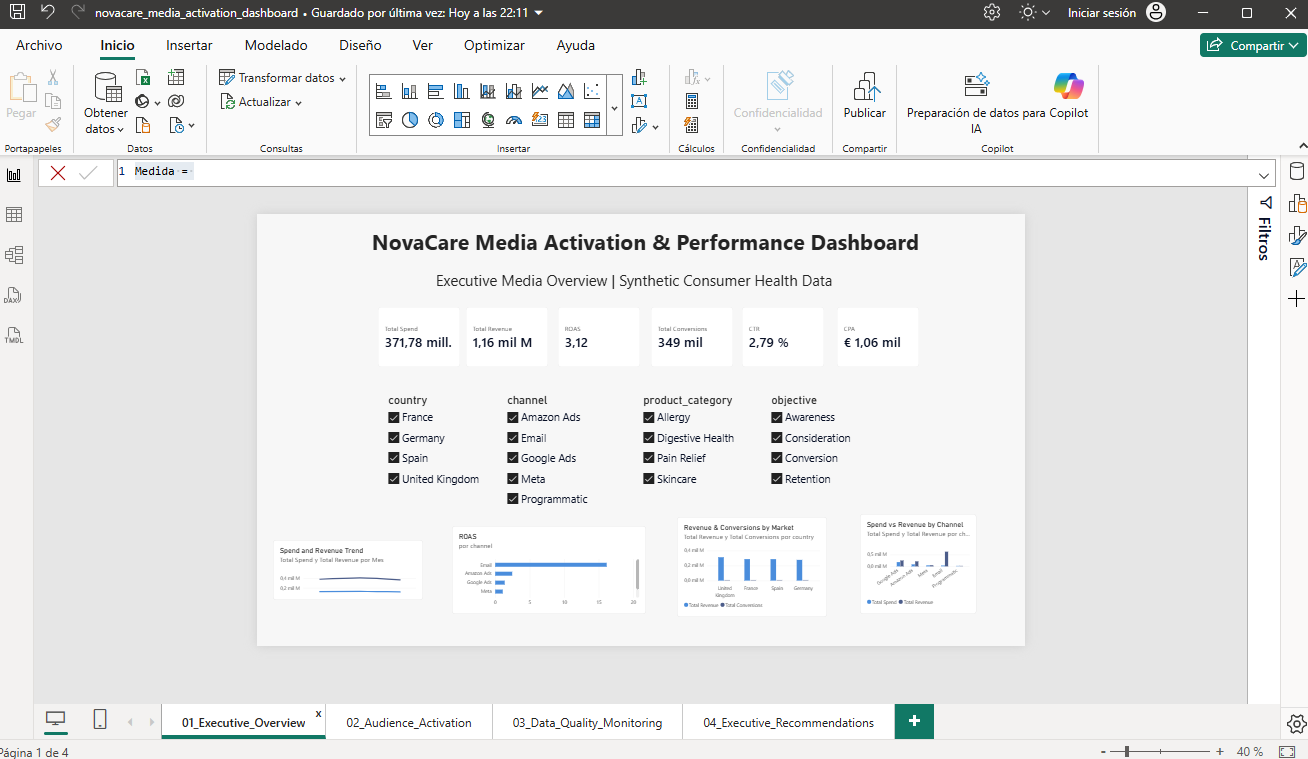

The page's visual inventory and layout, read from the dashboard file:
{"tool":"powerbi","page":{"name":"01_Executive_Overview","canvas":[1920,1080],"ordinal":0},"visuals":[{"type":"textbox","box":[22.5,32.5,1897.5,75],"z":0},{"type":"textbox","box":[447.5,140,1095,80],"z":1000},{"type":"cardVisual","fields":{"Data":["novacare_audience_taxonomy.Total Spend"]},"box":[302.5,232.5,205,150],"z":2000},{"type":"cardVisual","fields":{"Data":["novacare_audience_taxonomy.Total Revenue"]},"box":[522.5,232.5,205,150],"z":3000},{"type":"cardVisual","fields":{"Data":["novacare_audience_taxonomy.ROAS"]},"box":[752.5,232.5,205,150],"z":4000},{"type":"cardVisual","fields":{"Data":["novacare_audience_taxonomy.Total Conversions"]},"box":[985,232.5,205,150],"z":5000},{"type":"cardVisual","fields":{"Data":["novacare_audience_taxonomy.CTR"]},"box":[1212.5,232.5,205,150],"z":6000},{"type":"cardVisual","fields":{"Data":["novacare_audience_taxonomy.CPA"]},"box":[1450,232.5,205,150],"z":7000},{"type":"slicer","fields":{"Values":["novacare_media_performance.country"]},"box":[320,447.5,375,255],"z":8000},{"type":"slicer","fields":{"Values":["novacare_media_performance.channel"]},"box":[617.5,447.5,367.5,295],"z":9000},{"type":"slicer","fields":{"Values":["novacare_campaign_metadata.product_category"]},"box":[957.5,447.5,375,250],"z":10000},{"type":"slicer","fields":{"Values":["novacare_campaign_metadata.objective"]},"box":[1277.5,447.5,342.5,255],"z":11000},{"type":"clusteredBarChart","fields":{"Category":["novacare_media_performance.channel"],"Y":["novacare_audience_taxonomy.ROAS"]},"box":[487.5,780,485,220],"z":12000},{"type":"clusteredColumnChart","title":"Spend vs Revenue by Channel","fields":{"Category":["novacare_media_performance.channel"],"Y":["novacare_audience_taxonomy.Total Spend","novacare_audience_taxonomy.Total Revenue"]},"box":[1507.5,750,291,250],"z":13000},{"type":"clusteredColumnChart","title":"Revenue & Conversions by Market","fields":{"Category":["novacare_media_performance.country"],"Y":["novacare_audience_taxonomy.Total Revenue","novacare_audience_taxonomy.Total Conversions"]},"box":[1050,757.5,375,250],"z":14000},{"type":"lineChart","title":"Spend and Revenue Trend","fields":{"Category":["novacare_media_performance.date.Variación.Jerarquía de fechas.Mes"],"Y":["novacare_audience_taxonomy.Total Spend","novacare_audience_taxonomy.Total Revenue"]},"box":[40,815,375,150],"z":15000}]}

Visuals, with their boxes on the page's 1920x1080 design canvas (x1, y1, x2, y2). These are canvas units, not pixel positions in the 1308x759 screenshot, which may show the page scaled, cropped or inside an application window:
textbox: box(22, 32, 1920, 108)
textbox: box(448, 140, 1542, 220)
cardVisual - novacare_audience_taxonomy.Total Spend: box(302, 232, 508, 382)
cardVisual - novacare_audience_taxonomy.Total Revenue: box(522, 232, 728, 382)
cardVisual - novacare_audience_taxonomy.ROAS: box(752, 232, 958, 382)
cardVisual - novacare_audience_taxonomy.Total Conversions: box(985, 232, 1190, 382)
cardVisual - novacare_audience_taxonomy.CTR: box(1212, 232, 1418, 382)
cardVisual - novacare_audience_taxonomy.CPA: box(1450, 232, 1655, 382)
slicer - novacare_media_performance.country: box(320, 448, 695, 702)
slicer - novacare_media_performance.channel: box(618, 448, 985, 742)
slicer - novacare_campaign_metadata.product_category: box(958, 448, 1332, 698)
slicer - novacare_campaign_metadata.objective: box(1278, 448, 1620, 702)
clusteredBarChart - novacare_media_performance.channel x novacare_audience_taxonomy.ROAS: box(488, 780, 972, 1000)
"Spend vs Revenue by Channel" clusteredColumnChart: box(1508, 750, 1798, 1000)
"Revenue & Conversions by Market" clusteredColumnChart: box(1050, 758, 1425, 1008)
"Spend and Revenue Trend" lineChart: box(40, 815, 415, 965)
